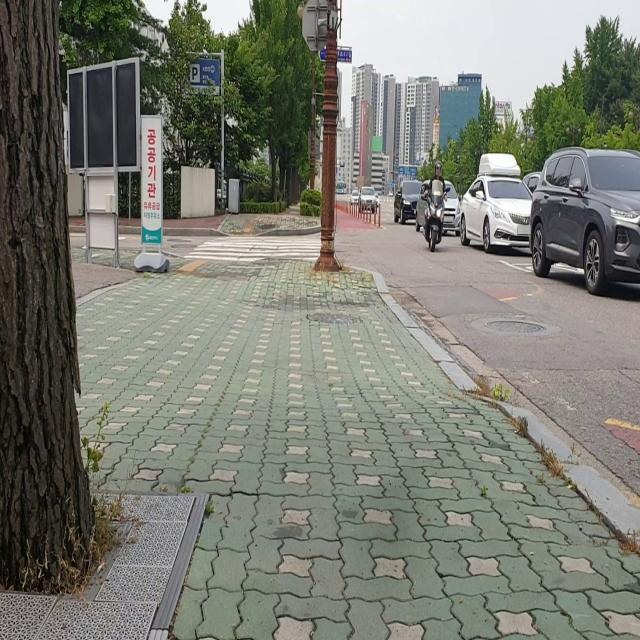횡단보도: (184, 236, 322, 263)
